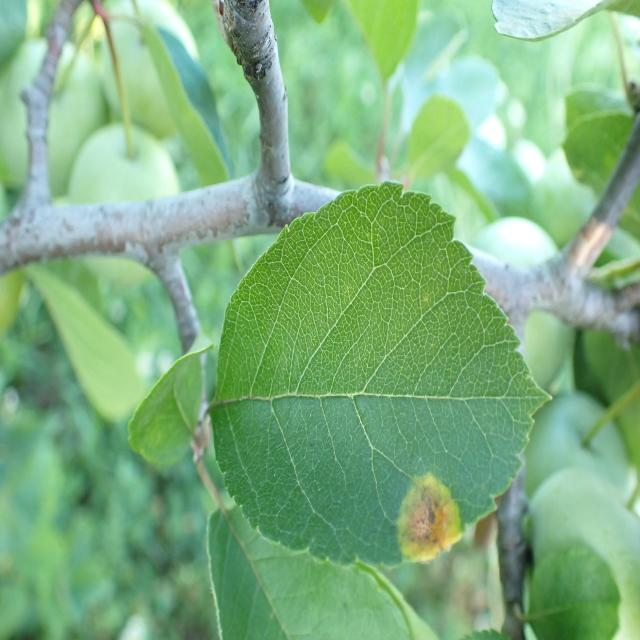Rust: (386, 462, 464, 572)
